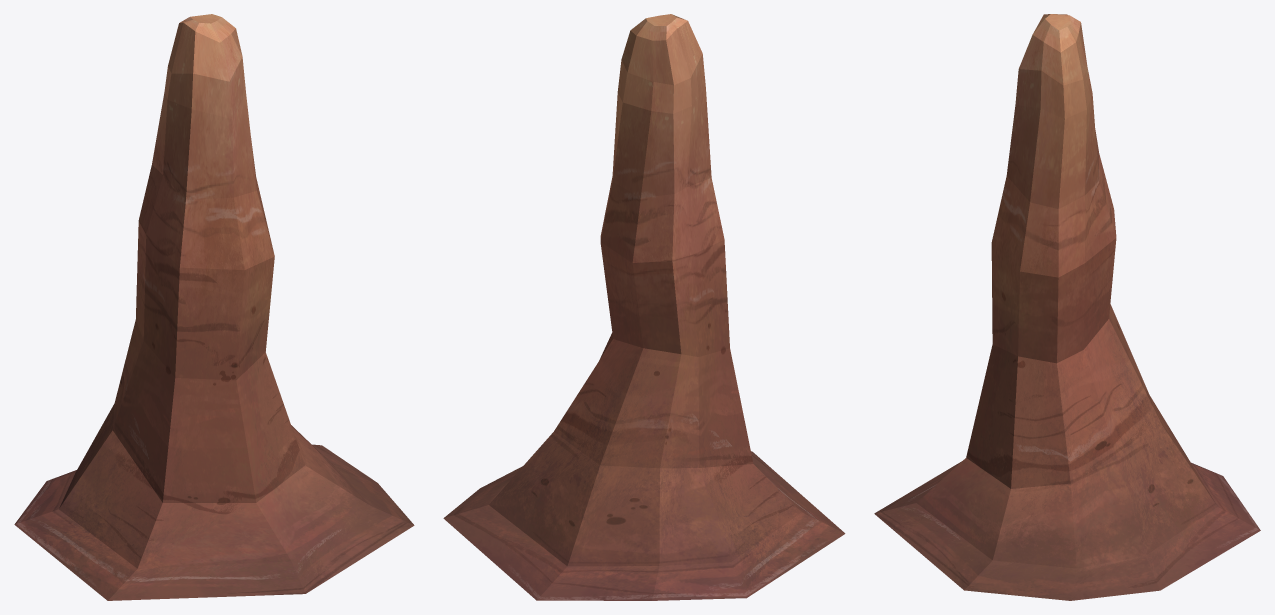
Rendered from spire_1.fbx.
The picture shows the model from 3 angles, left to right: view 1: azimuth 30°, elevation 25°; view 2: azimuth 150°, elevation 25°; view 3: azimuth 270°, elevation 25°; orthographic projection. The views are drawn at different scales.
Visible parts, largest first — view 1: spire 1; view 2: spire 1; view 3: spire 1.
Boxes of the visible parts, x1,y1,x2,y2 form: spire 1: (14, 14, 414, 600); spire 1: (443, 14, 845, 600); spire 1: (874, 14, 1260, 600).
Bounding box in the file's own units: 378 × 584 × 409.
